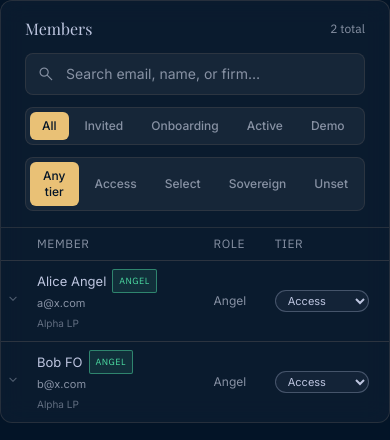
Test case: <MembersTable /> — filtering › filters by name
This screenshot has width=390, height=440.
In the field with placeholder "Search email, name, or firm…": {"x": 195, "y": 74} [25, 53, 365, 95], type "angel"
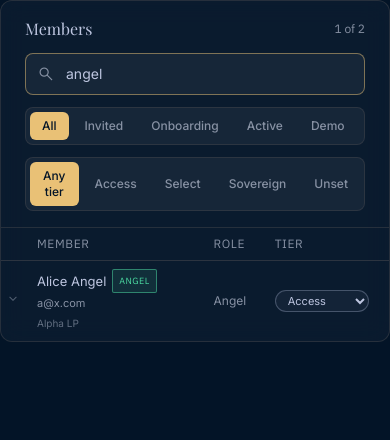
Check: the text "a@x.com" is shown, box [37, 296, 86, 310]
Check: the text "b@x.com" is gone
